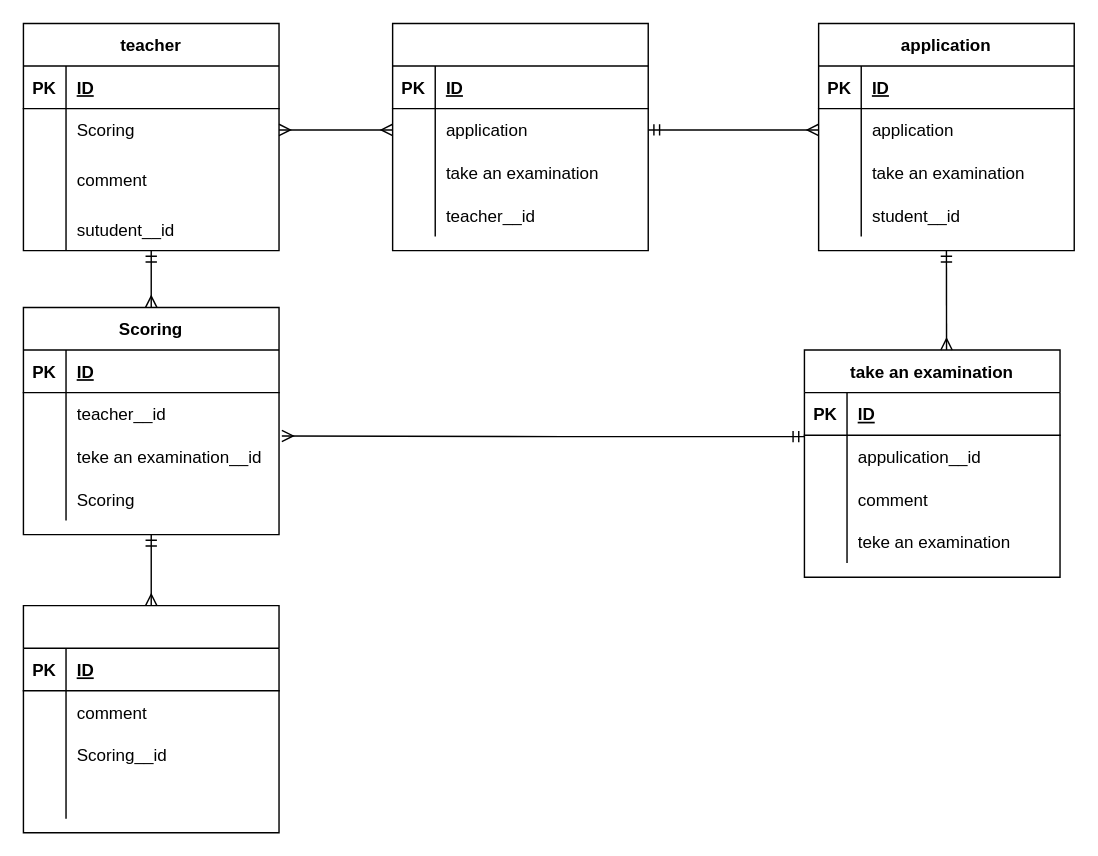
Some shapes in this 1098 by 856 pixel diagram are drawn without their labels. Each missing label, with the box of its shape:
comments: (22, 604, 279, 833)
student: (391, 22, 648, 251)
